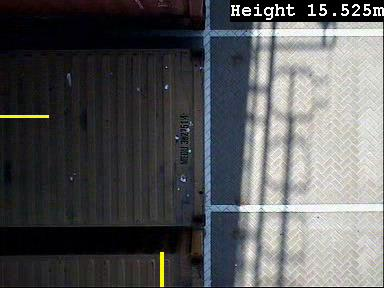groundmarker_2: (108, 186, 239, 260)
